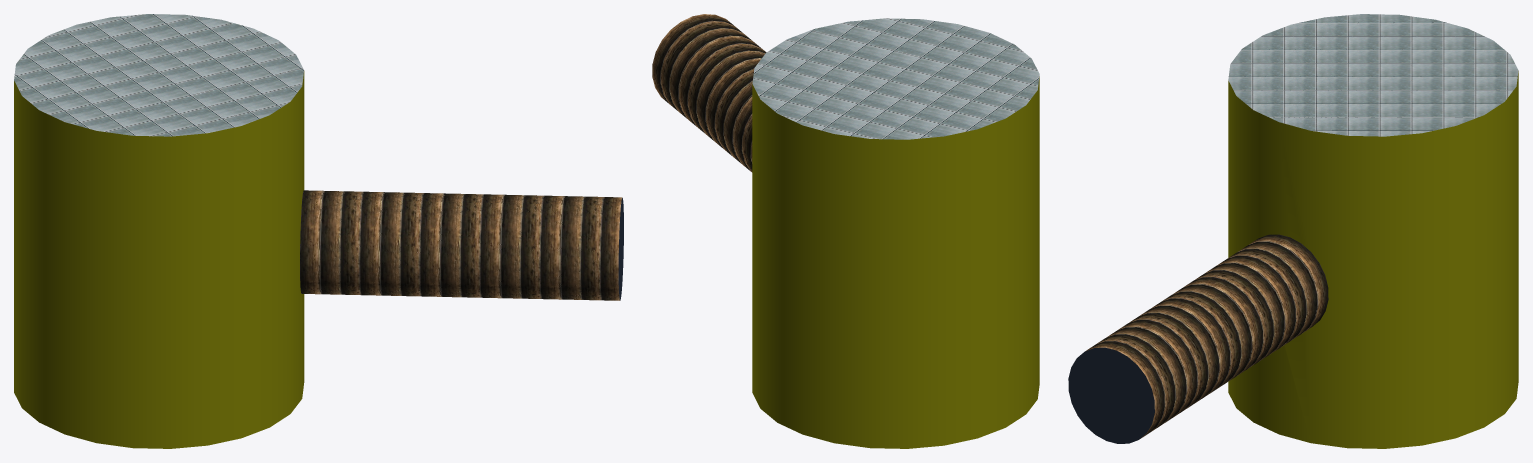
File: gianthammer.fbx
3 views of the same model, side by side, from view 1: azimuth 30°, elevation 25°; view 2: azimuth 150°, elevation 25°; view 3: azimuth 270°, elevation 25° (orthographic).
Parts seen in each view (by area): view 1: Model; view 2: Model; view 3: Model.
Part boxes in pixels (<box>): Model: <box>14,14,623,448</box>; Model: <box>652,14,1039,448</box>; Model: <box>1068,14,1518,448</box>.
Size of the model in its own units: 419 by 260 by 339.
